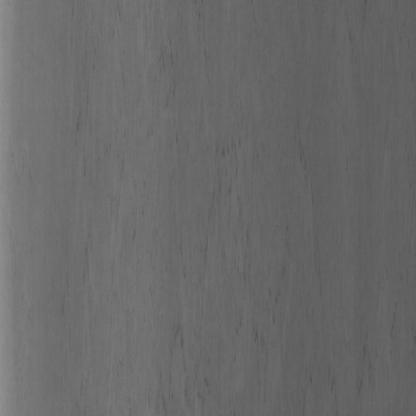silk_spot: (138, 73, 352, 416)
